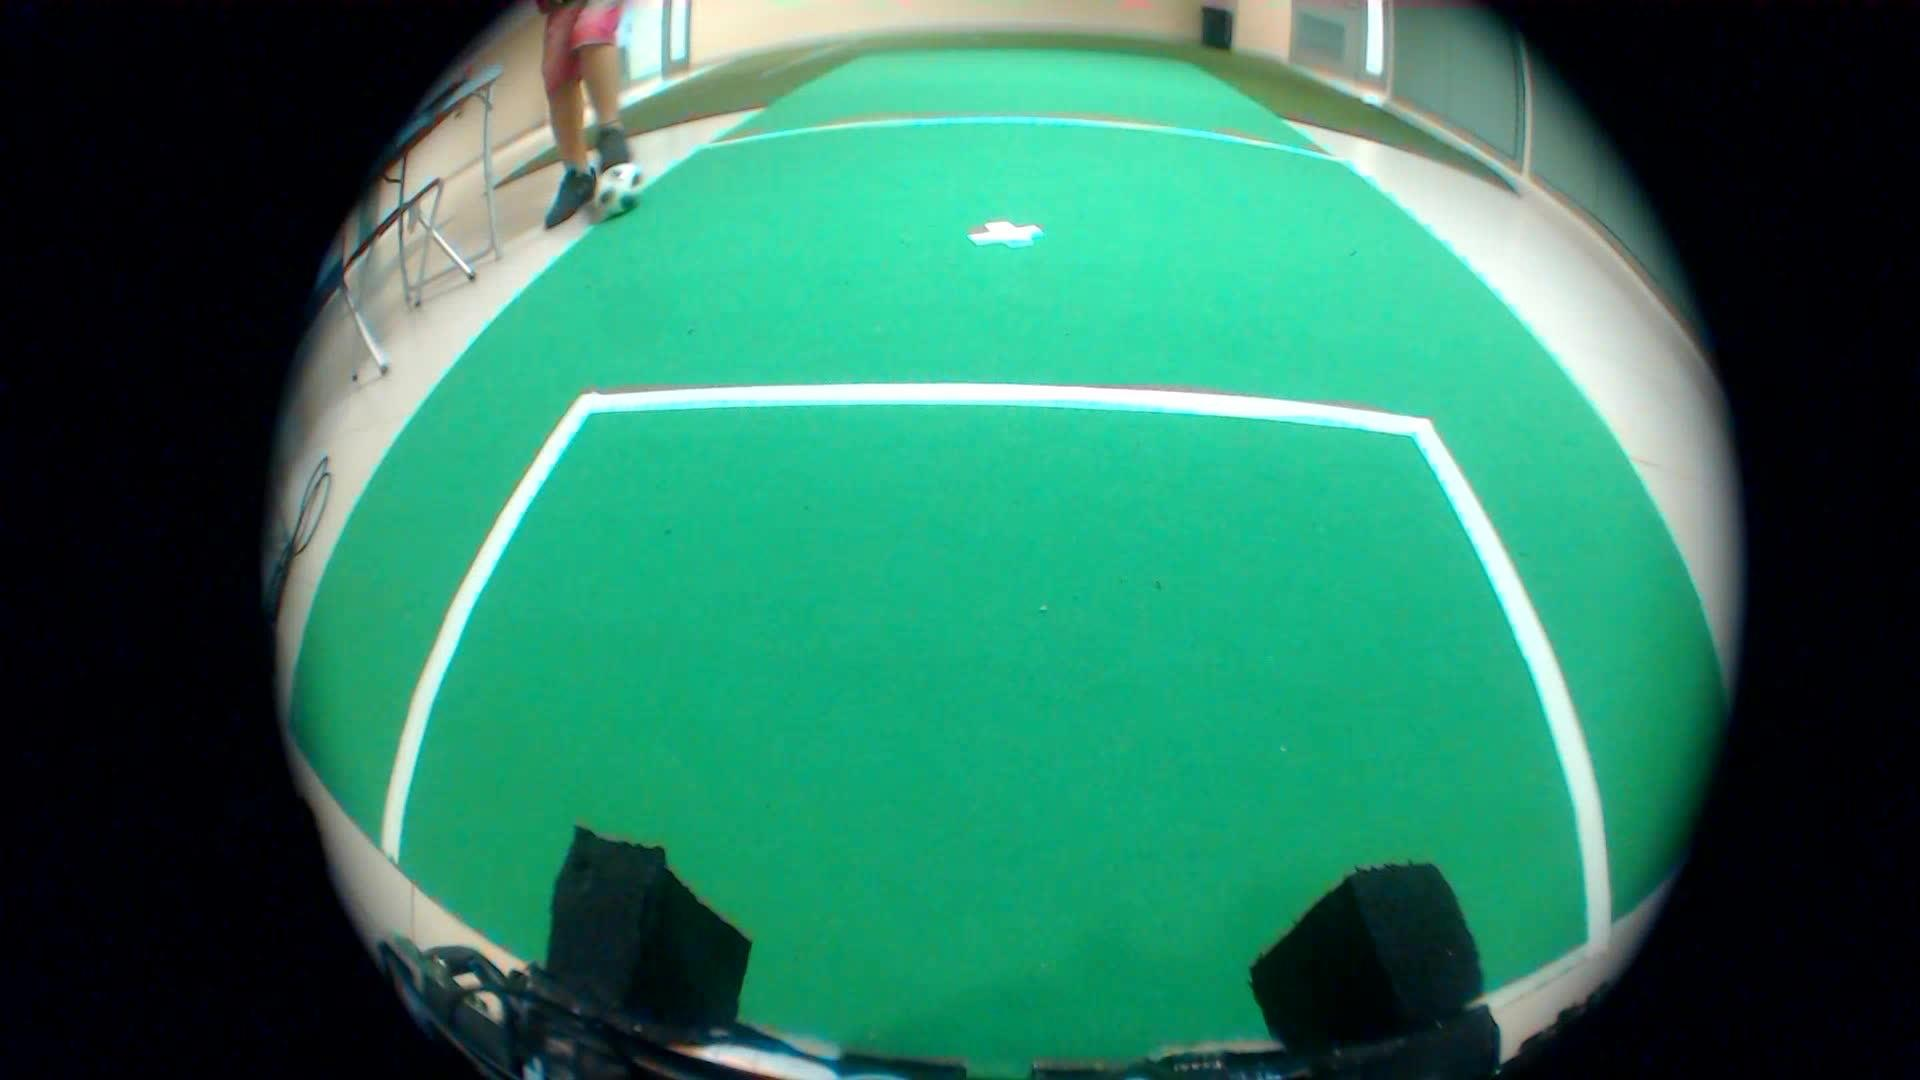ball: (589, 146, 657, 208)
